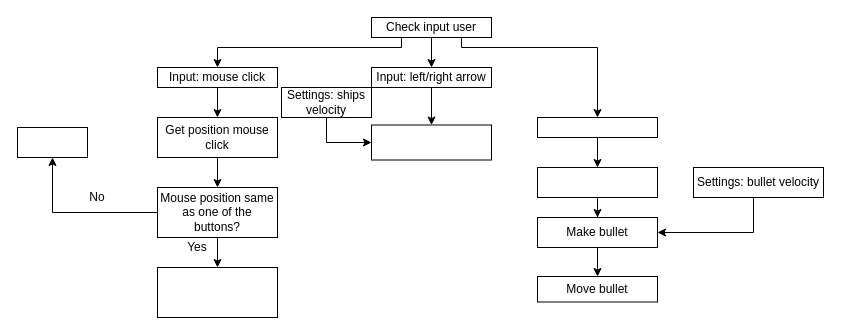
This 841x335 diagram has some shape labels left out. Here are the shapes that lost their labels. From the top down, the centre of each, then its label:
the point at 52,142: Do nothing
the point at 431,142: x-coordinate ship +/- ship's velocity
the point at 597,127: Input: space bar
the point at 597,182: Find x-coordinate ship
the point at 217,292: Initialize function of the button (difficulty, play, etc.)
